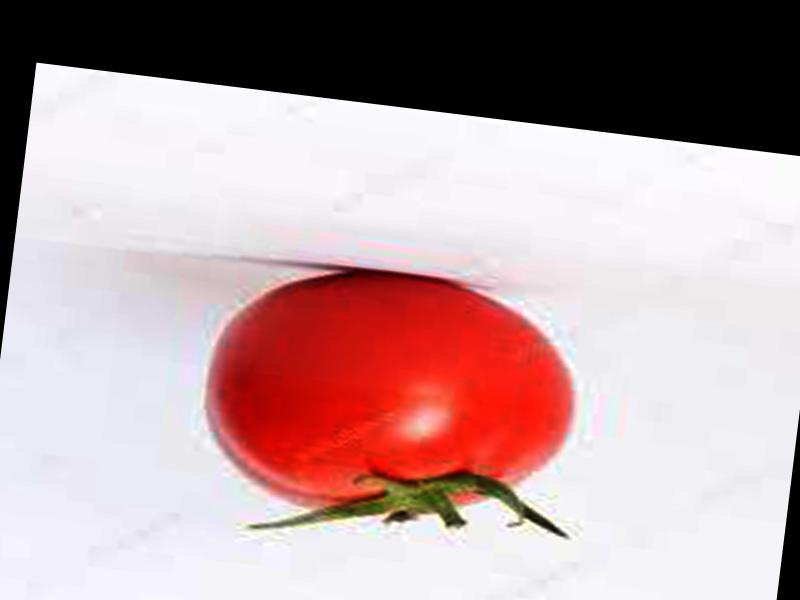Tomato: (189, 250, 585, 535)
